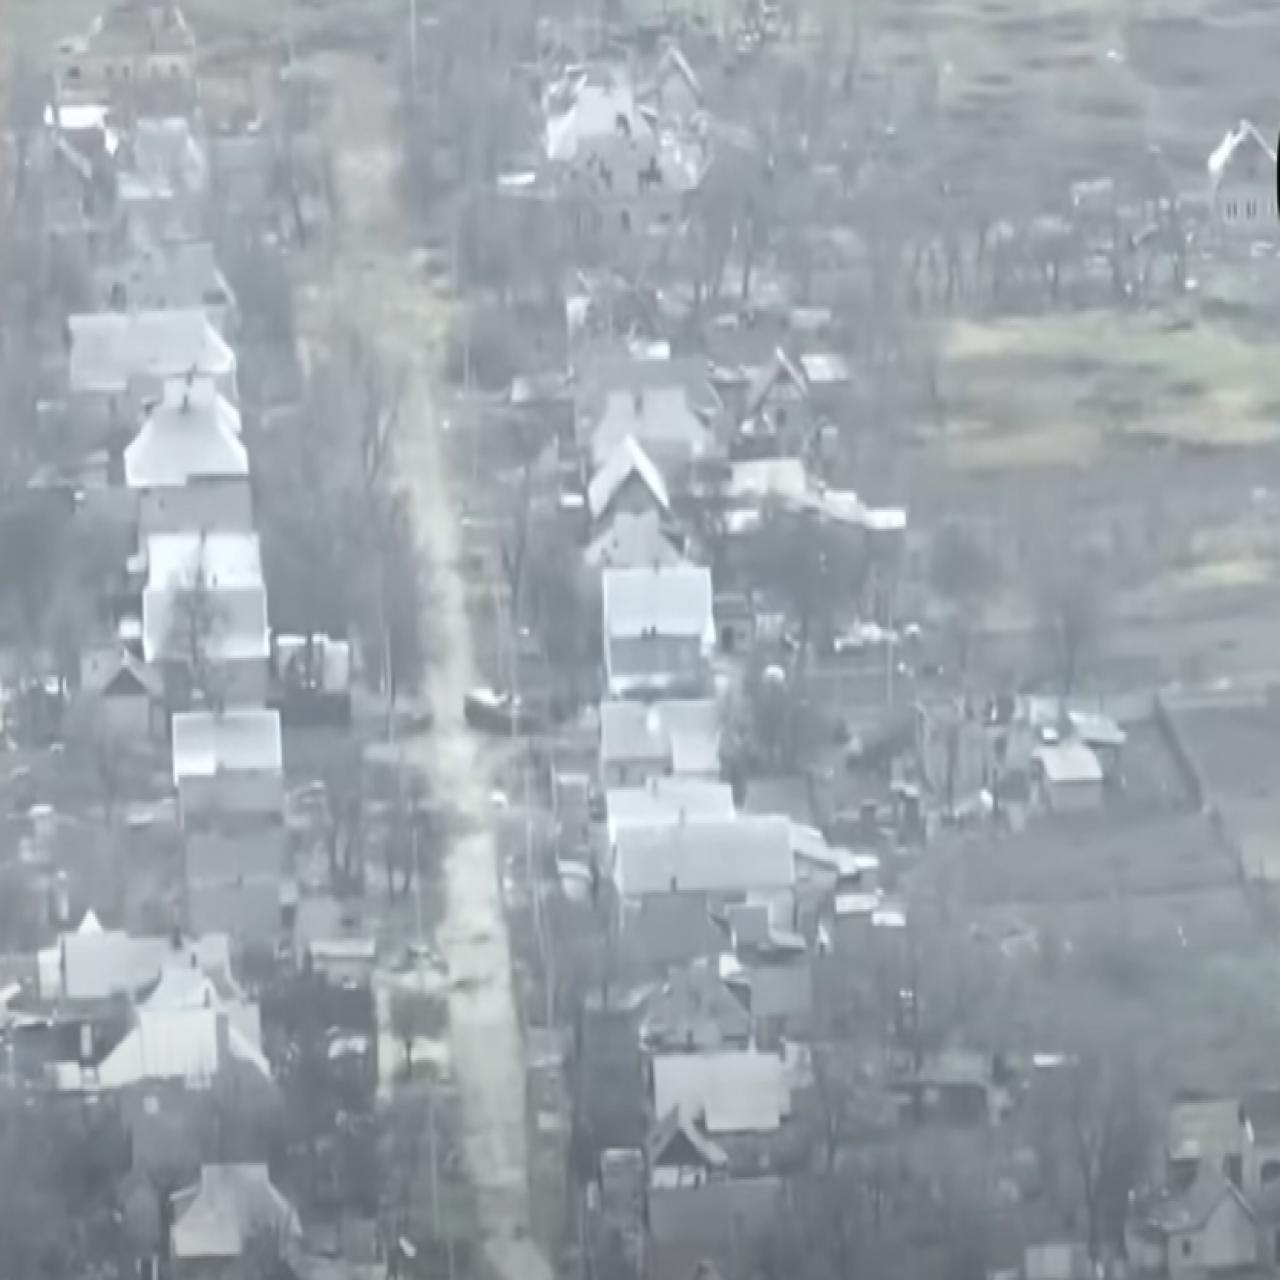MIL_Veh: (452, 674, 550, 745)
